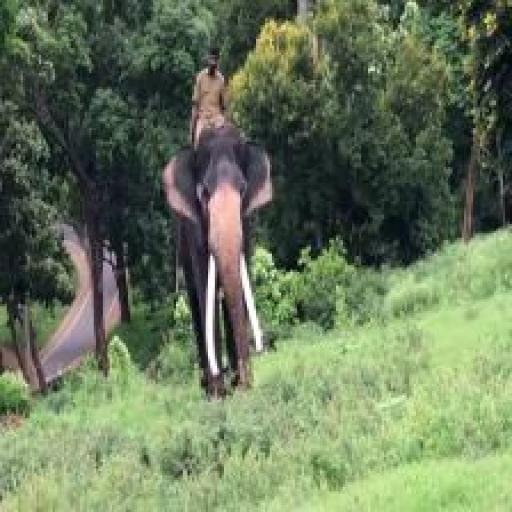Elephant: (158, 119, 290, 410)
